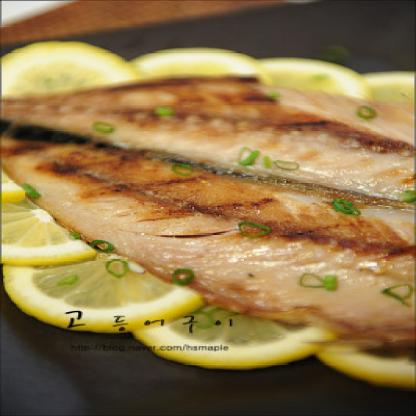Peixe: (3, 69, 416, 345)
